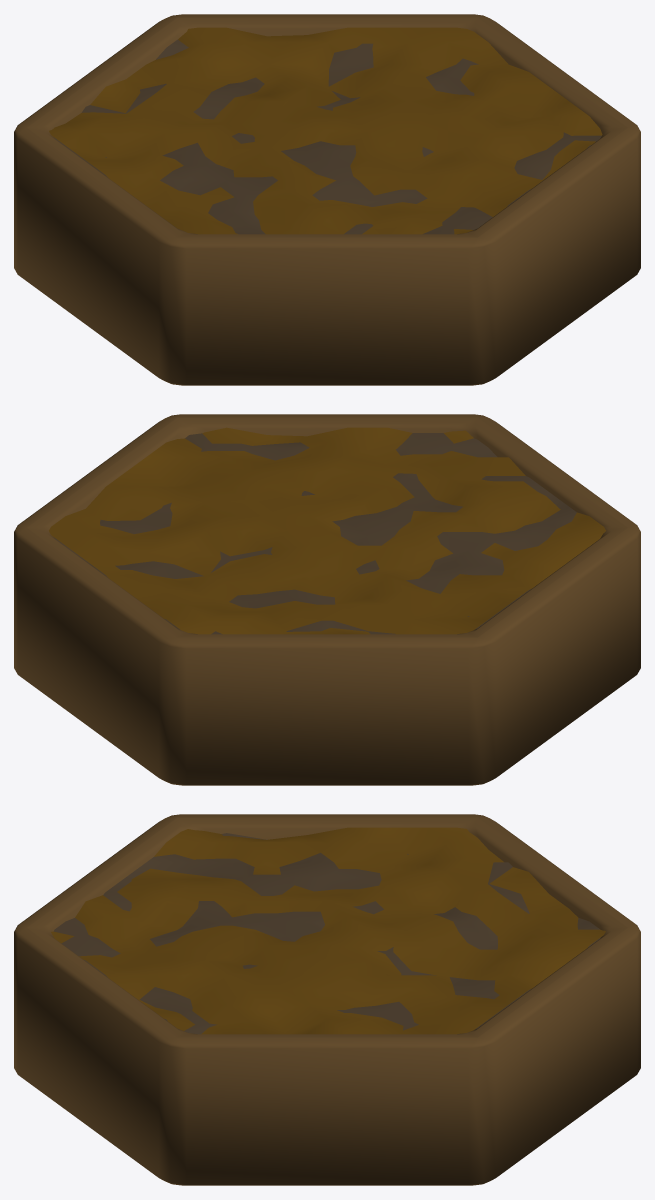
The model's file is dirthex2.fbx.
3 renders of one model, top to bottom at view 1: azimuth 30°, elevation 25°; view 2: azimuth 150°, elevation 25°; view 3: azimuth 270°, elevation 25°, orthographic.
Parts seen in each view (by area): view 1: Cylinder.003, Cylinder.004, Cylinder.005; view 2: Cylinder.003, Cylinder.004, Cylinder.005; view 3: Cylinder.003, Cylinder.004, Cylinder.005.
Part boxes in pixels (left/top/right/bottom): Cylinder.003: left=14, top=14, right=640, bottom=385; Cylinder.004: left=49, top=27, right=602, bottom=234; Cylinder.005: left=54, top=39, right=601, bottom=234; Cylinder.003: left=14, top=414, right=640, bottom=785; Cylinder.004: left=49, top=427, right=605, bottom=634; Cylinder.005: left=54, top=433, right=576, bottom=634; Cylinder.003: left=14, top=814, right=640, bottom=1185; Cylinder.004: left=51, top=827, right=605, bottom=1034; Cylinder.005: left=53, top=833, right=600, bottom=1034.
Bounding box in the file's own units: 173 × 50 × 197.
